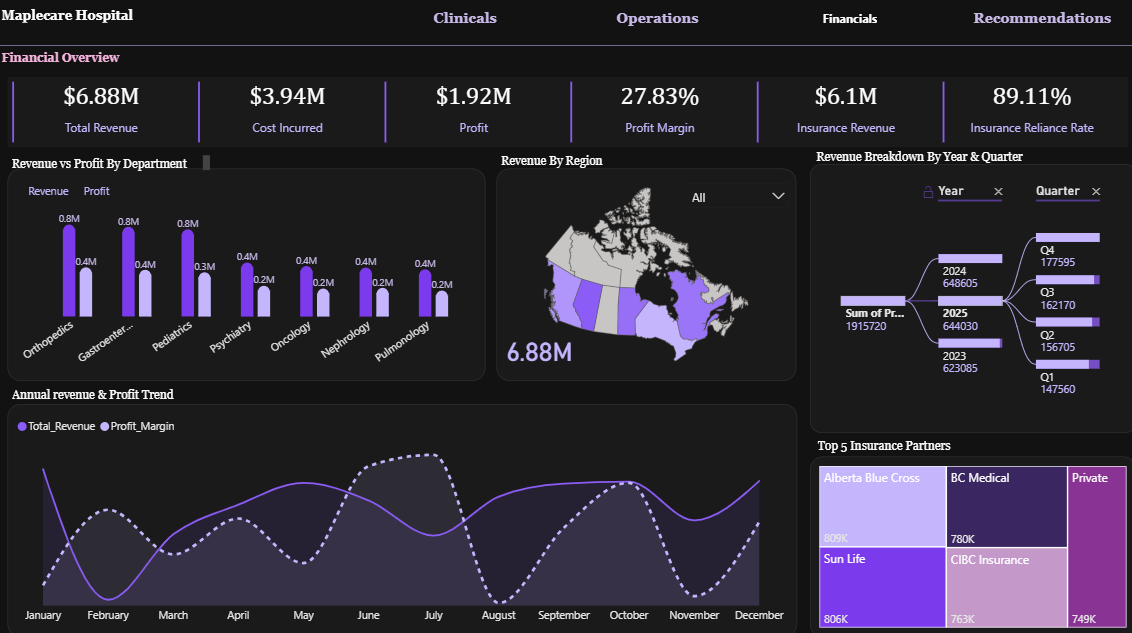

This screenshot's page, from the dashboard's own definition file:
{"tool":"powerbi","page":{"name":"Financials","canvas":[1280,720],"ordinal":3},"visuals":[{"type":"shape","box":[0,0,1280,721.7],"z":0},{"type":"cardVisual","fields":{"Data":["KPI_Measures.Total_Revenue","KPI_Measures.Cost_Incurred","KPI_Measures.profits_2","KPI_Measures.Profit_Margin","KPI_Measures.Insurance_revenue","KPI_Measures.Insurance_reliance"]},"box":[11.7,91.7,1258.3,78.3],"z":1000},{"type":"lineChart","fields":{"Y":["KPI_Measures.Total_Revenue"],"Y2":["KPI_Measures.Profit_Margin"],"Category":["Date_Dim.Date.Variation.Date Hierarchy.Month"]},"box":[11.7,458.3,886.7,261.7],"z":2000},{"type":"decompositionTreeVisual","fields":{"ExplainBy":["Date_Dim.Year","Date_Dim.Quarter"],"Analyze":["Sum(Fact_Hospital_Visits.Profit)"]},"box":[913.3,188.3,366.7,301.7],"z":3000},{"type":"clusteredColumnChart","fields":{"Y":["Sum(Fact_Hospital_Visits.Cost_Incurred)","Sum(Fact_Hospital_Visits.Profit)"],"Category":["Department_Dim.Department_Name"]},"box":[11.7,193.3,536.7,238.3],"z":4000},{"type":"shapeMap","fields":{"Category":["Hospital_Dim.Branch_Name"],"Value":["Sum(Fact_Hospital_Visits.Cost_Incurred)"]},"box":[561.7,193.3,336.7,238.3],"z":5000},{"type":"textbox","box":[11.8,432.8,210.5,35.4],"z":6000},{"type":"textbox","box":[916.7,490,173.3,28.3],"z":7000},{"type":"textbox","box":[11.8,173.5,232.4,26.9],"z":8000},{"type":"textbox","box":[560.8,170.1,126.3,28.6],"z":9000},{"type":"textbox","box":[899.4,165.1,272.8,33.7],"z":10000},{"type":"shape","box":[0,48.8,1280,13.5],"z":11000},{"type":"treemap","fields":{"Group":["Fact_Hospital_Visits.Insurance_Provider"],"Values":["KPI_Measures.Total_Revenue"]},"box":[913.3,516.7,366.7,203.3],"z":12000},{"type":"textbox","box":[0,6.9,181.7,28.3],"z":13000},{"type":"slicer","fields":{"Values":["Hospital_Dim.Province"]},"box":[765,200,135,46.7],"z":14000},{"type":"card","fields":{"Values":["KPI_Measures.Total_Revenue"]},"box":[556.7,363.3,101.7,68.3],"z":15000},{"type":"textbox","box":[0,54.1,305,33.3],"z":16000},{"type":"pageNavigator","box":[422.7,0,857.3,50.5],"z":17000}]}

Visuals, with their boxes in screenshot pixels (x1, y1, x2, y2), scaled from the page's 1280x720 canvas onto the 1132x633 screenshot:
shape: bbox=(0, 0, 1131, 632)
cardVisual - KPI_Measures.Total_Revenue x KPI_Measures.Cost_Incurred: bbox=(10, 81, 1123, 149)
lineChart - KPI_Measures.Total_Revenue x KPI_Measures.Profit_Margin: bbox=(10, 403, 795, 632)
decompositionTreeVisual - Date_Dim.Year x Date_Dim.Quarter: bbox=(808, 166, 1131, 431)
clusteredColumnChart - Sum(Fact_Hospital_Visits.Cost_Incurred) x Sum(Fact_Hospital_Visits.Profit): bbox=(10, 170, 485, 379)
shapeMap - Hospital_Dim.Branch_Name x Sum(Fact_Hospital_Visits.Cost_Incurred): bbox=(497, 170, 795, 379)
textbox: bbox=(10, 381, 197, 412)
textbox: bbox=(811, 431, 964, 456)
textbox: bbox=(10, 153, 216, 176)
textbox: bbox=(496, 150, 608, 175)
textbox: bbox=(795, 145, 1037, 175)
shape: bbox=(0, 43, 1131, 55)
treemap - Fact_Hospital_Visits.Insurance_Provider x KPI_Measures.Total_Revenue: bbox=(808, 454, 1131, 632)
textbox: bbox=(0, 6, 161, 31)
slicer - Hospital_Dim.Province: bbox=(677, 176, 796, 217)
card - KPI_Measures.Total_Revenue: bbox=(492, 319, 582, 379)
textbox: bbox=(0, 48, 270, 77)
pageNavigator: bbox=(374, 0, 1131, 44)
